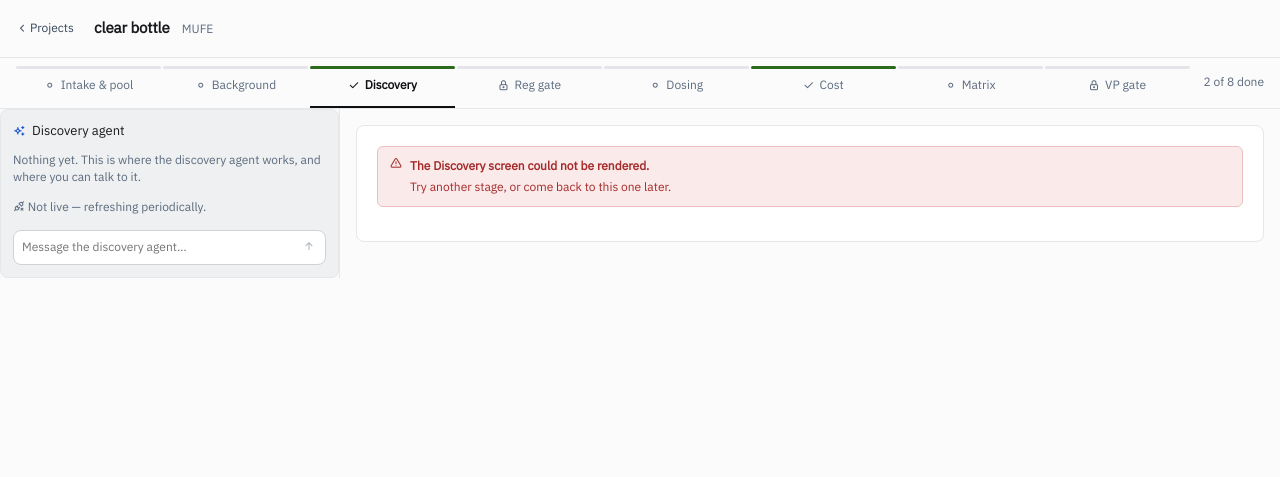
Test: ProjectLayout — a throwing stage screen › recovers when the operator moves to a different stage
Expected: the text "The Discovery screen could not be rendered." is shown, [410,158,649,173]
Click the link "Cost" at (823, 79), box [751,66,896,92]
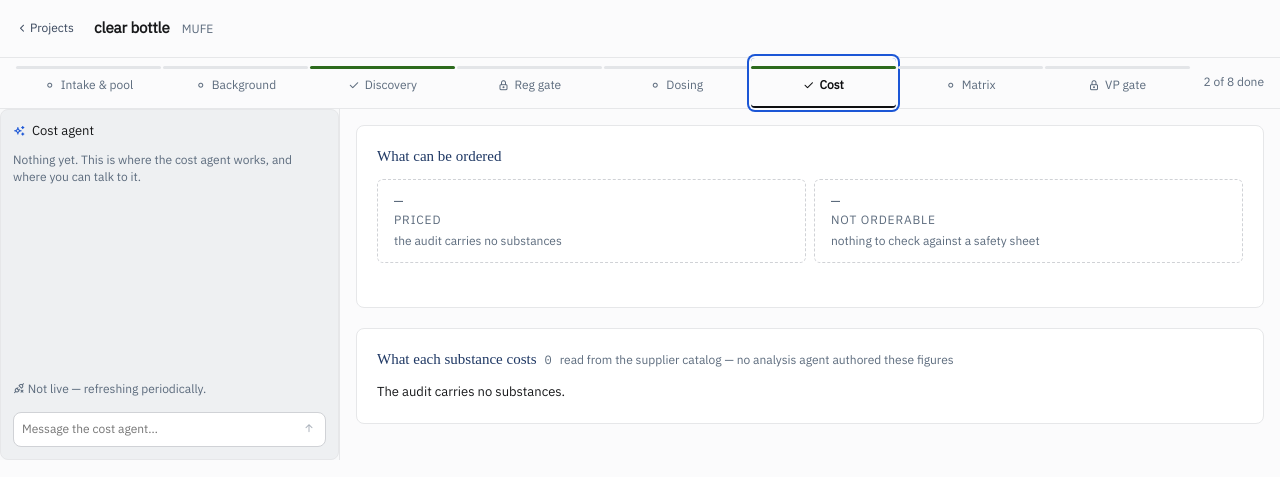
Expected: the header is shown, [0,0,1279,58]
Now the heading "What can be ordered" is shown, box [377,146,502,167]
Now the text "could not be rendered" is gone
